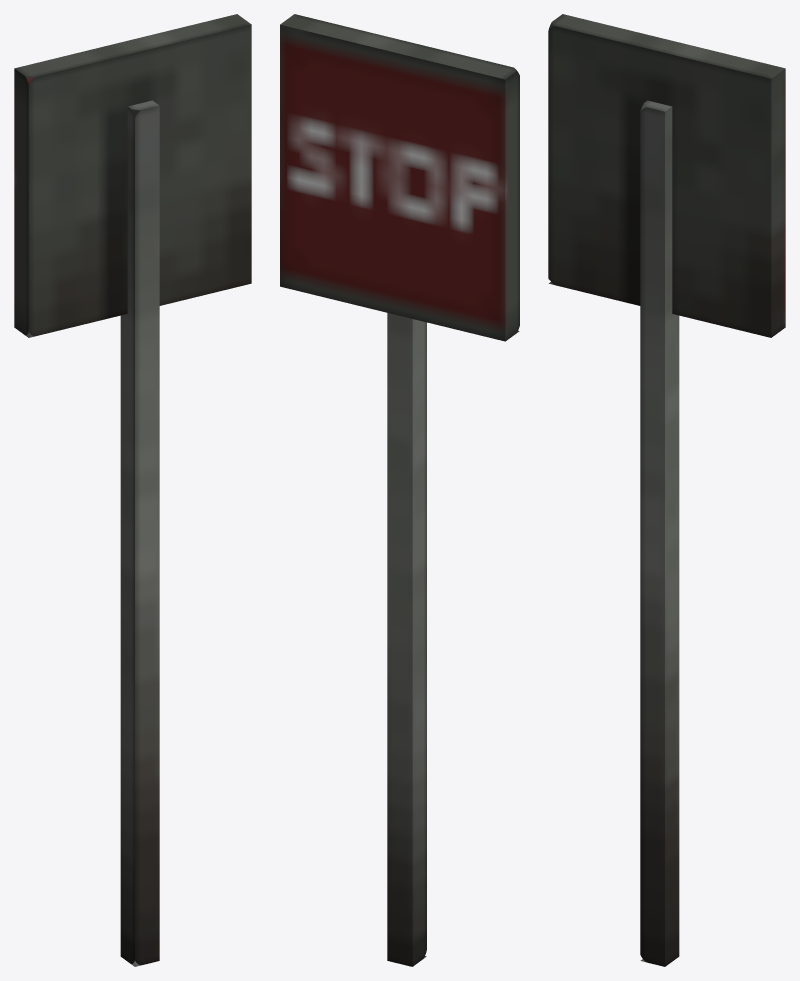
File: roadsign_stop.obj
3 renders of one model, left to right at view 1: azimuth 30°, elevation 25°; view 2: azimuth 150°, elevation 25°; view 3: azimuth 330°, elevation 25°, orthographic.
Visible parts, largest first — view 1: ny, nx; view 2: ny, nx; view 3: ny, nx.
Part boxes in pixels (<box>): ny: <box>14,14,251,337</box>; nx: <box>120,100,159,966</box>; ny: <box>280,14,519,341</box>; nx: <box>387,313,426,966</box>; ny: <box>548,14,785,337</box>; nx: <box>640,100,679,966</box>.
Size of the model in its own units: 0.5625 by 2.19 by 0.0938.
1 material, 1 textured.
